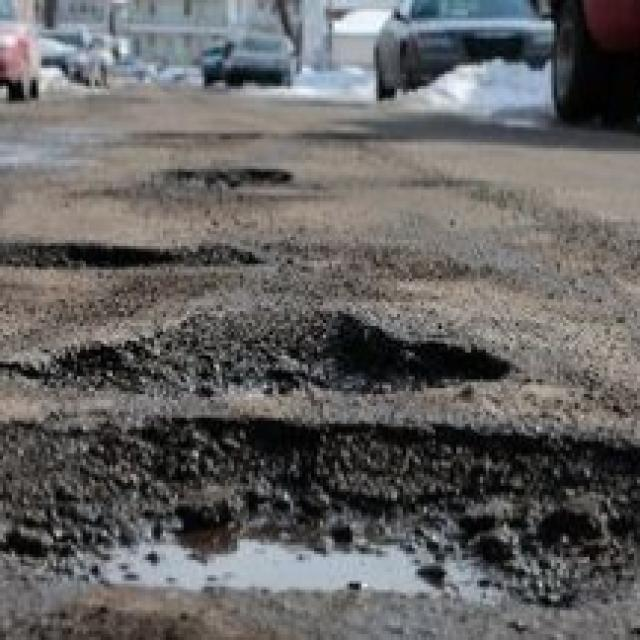pothole: (0, 400, 640, 640), (32, 298, 560, 427), (0, 216, 296, 315), (139, 139, 311, 214)
